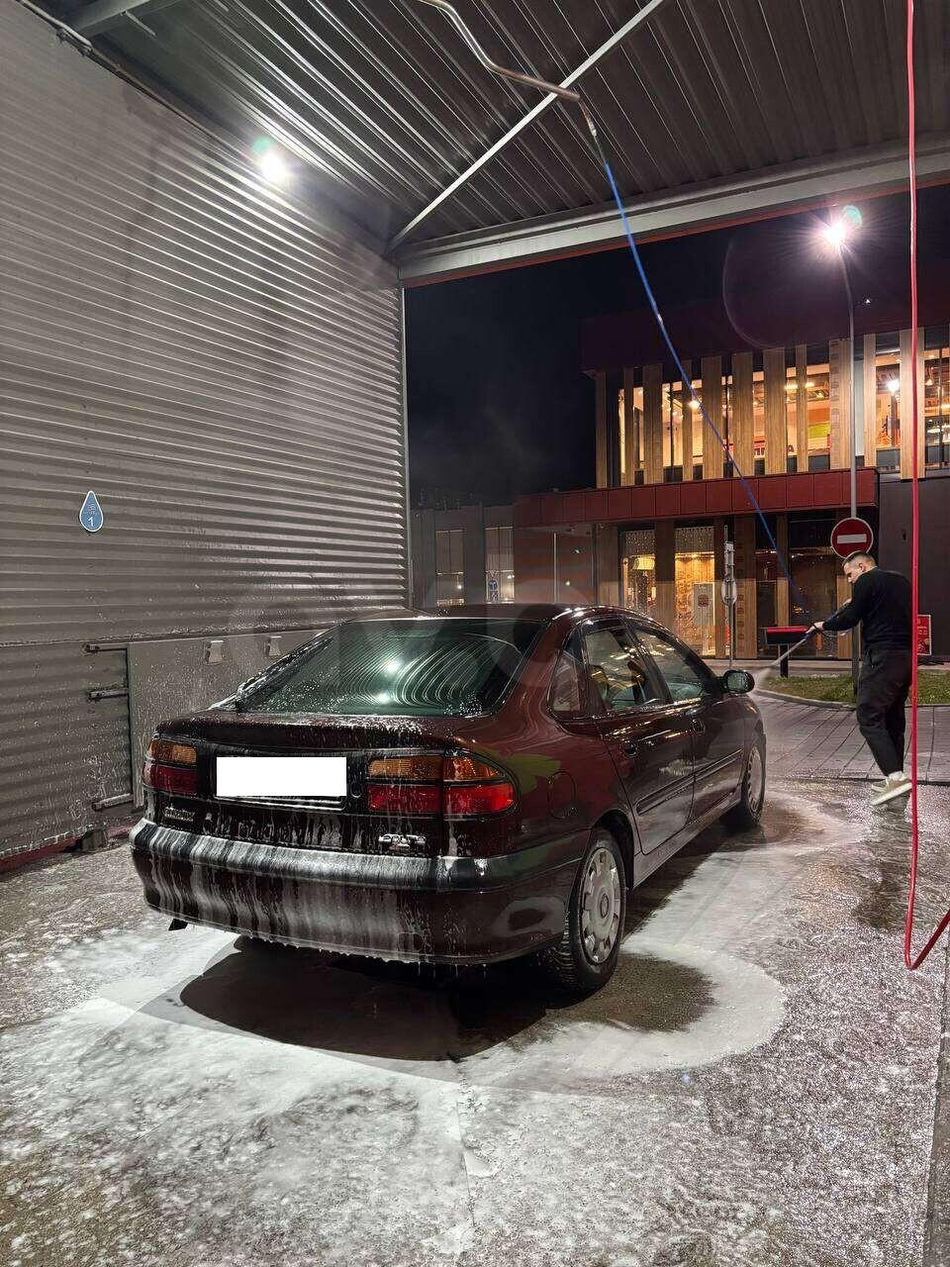Laguna_1998-2001: (132, 601, 778, 1000)
